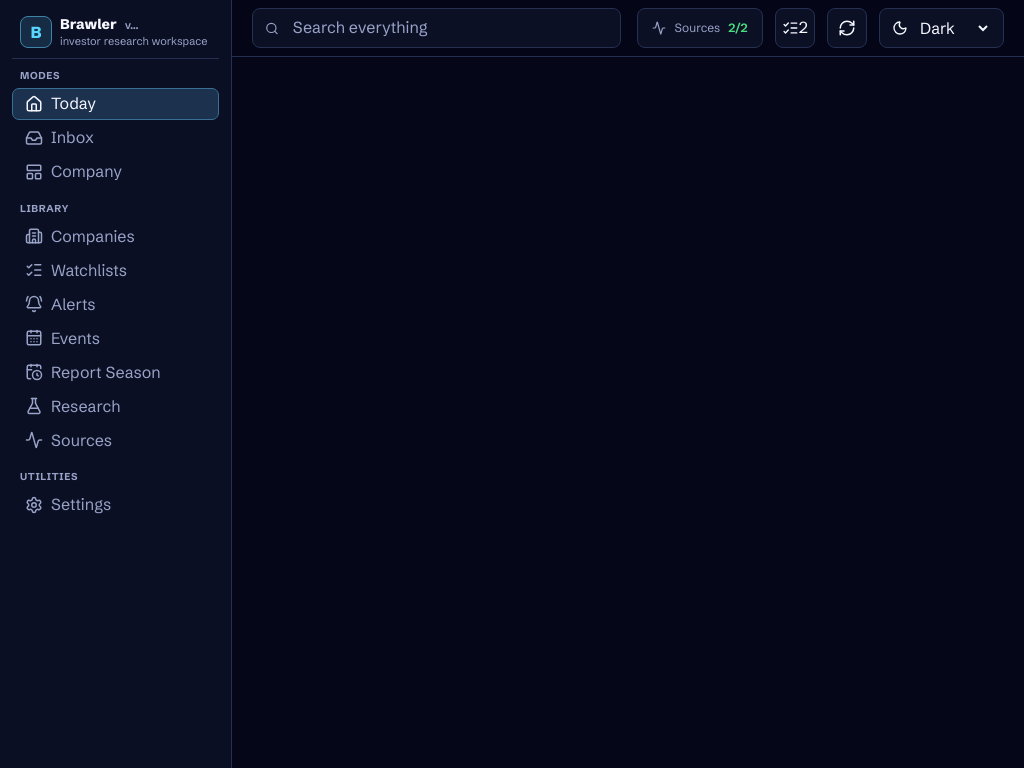
AppShell — Activity panel open/close/navigate › click opens the dialog; Escape closes it and returns focus to the indicator
This screenshot has width=1024, height=768.
Click the button named "Open activity" at (795, 28), box [775, 8, 815, 48]
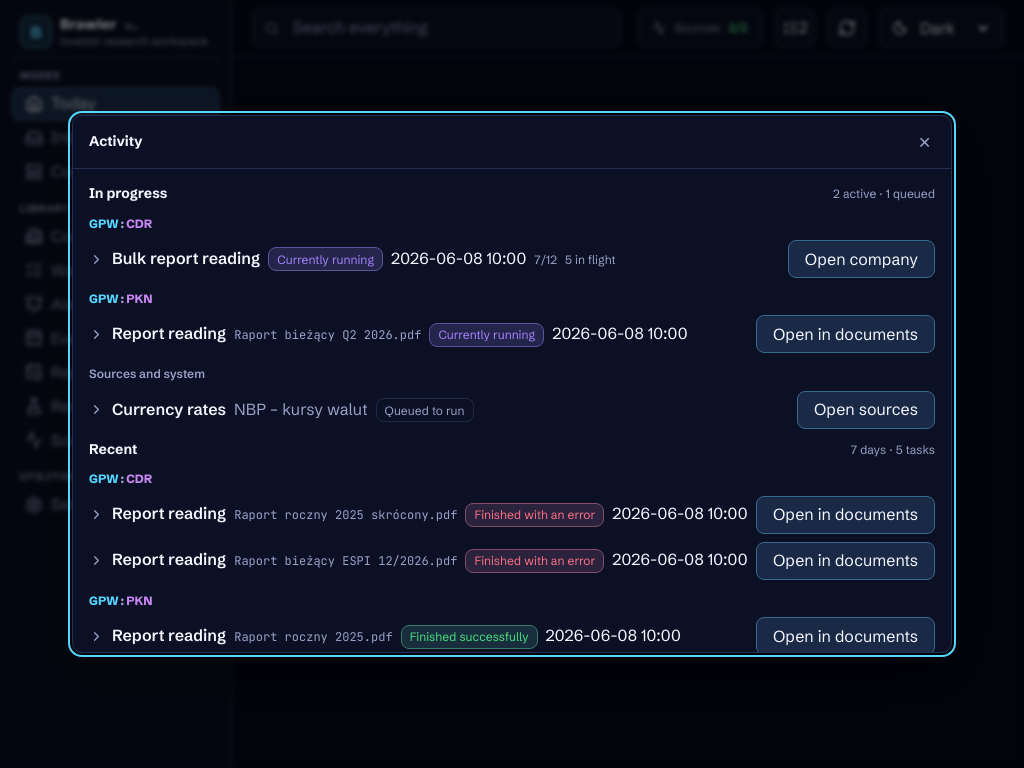
Result: the dialog "Activity" is shown
Press Escape
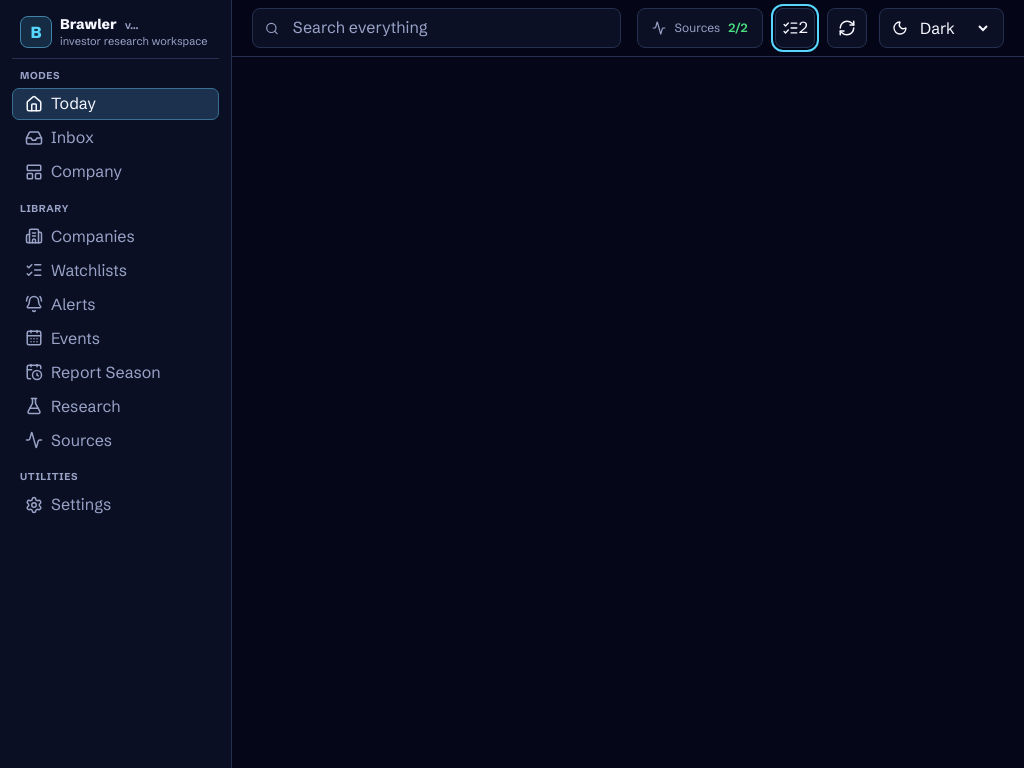
Result: the dialog is gone
